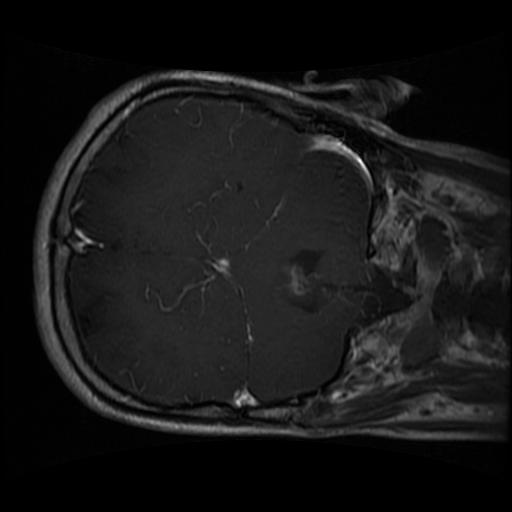glioma: (275, 243, 336, 314)
